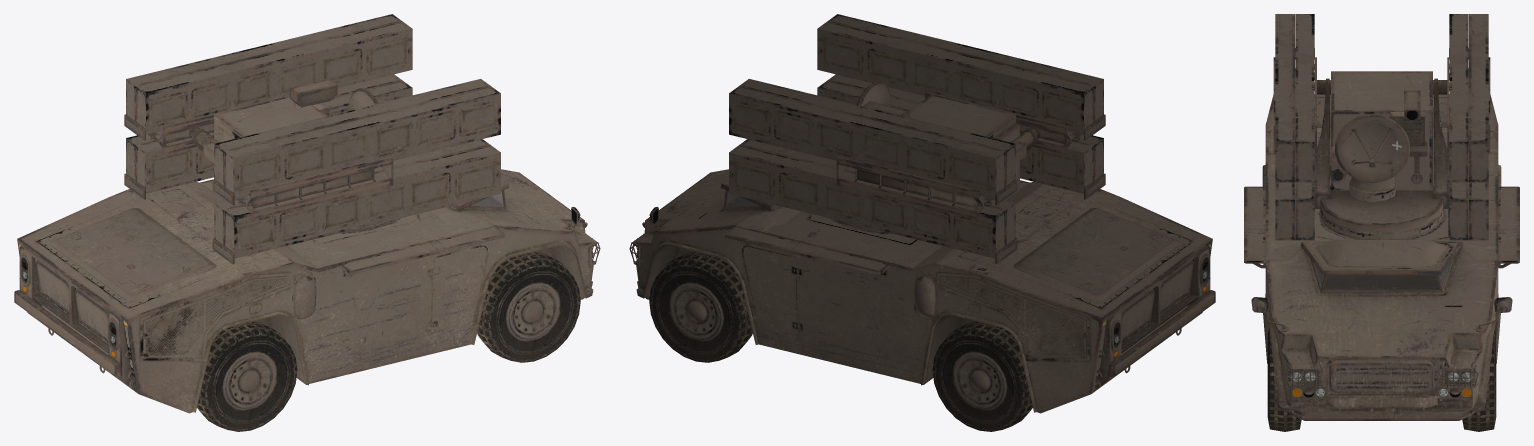
The model's file is cactus_sahv.glb.
3 renders of one model, left to right at view 1: azimuth 30°, elevation 25°; view 2: azimuth 150°, elevation 25°; view 3: azimuth 270°, elevation 25°, orthographic.
Visible parts, largest first — view 1: mesh_285_mat_10_0; view 2: mesh_285_mat_10_0; view 3: mesh_285_mat_10_0, mesh_286_mat_11_0.
Part boxes in pixels (box(x1,y1,x2,y2)): mesh_285_mat_10_0: box(14, 14, 600, 431); mesh_285_mat_10_0: box(629, 14, 1215, 431); mesh_285_mat_10_0: box(1244, 14, 1519, 431); mesh_286_mat_11_0: box(1314, 264, 1449, 289).
Bounding box in the file's own units: 6 × 3.22 × 2.97.
Materials: 2 (2 with a texture image).
